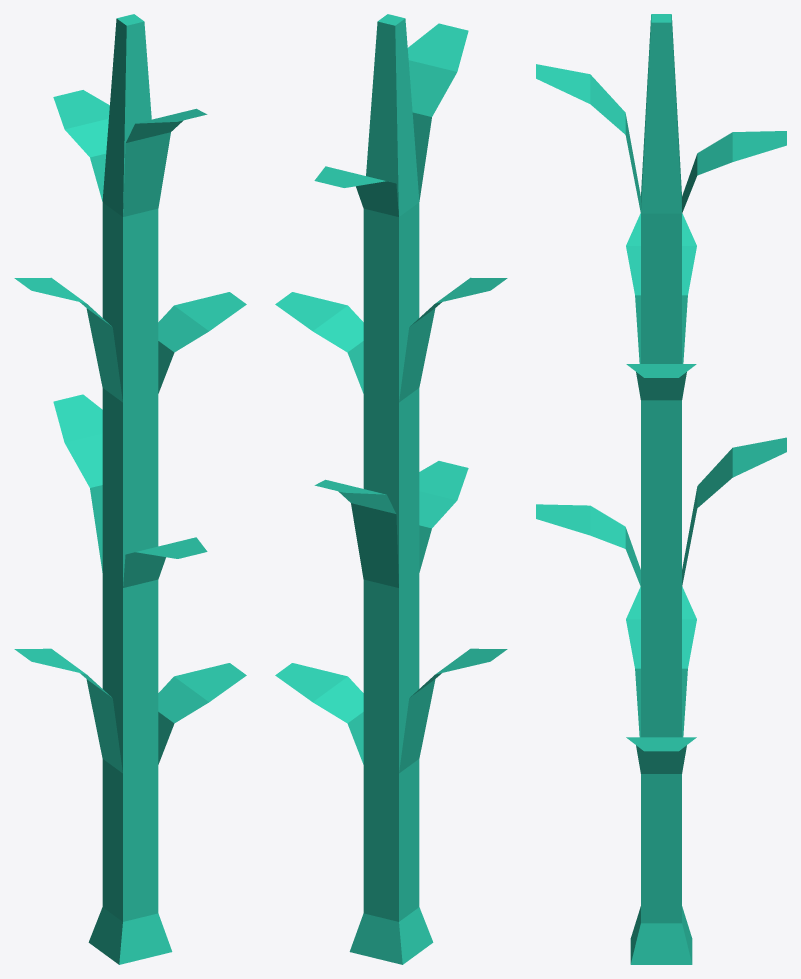
Rendered from crops_cornStageC.dae.
The picture shows the model from 3 angles, left to right: view 1: azimuth 30°, elevation 25°; view 2: azimuth 150°, elevation 25°; view 3: azimuth 270°, elevation 25°; orthographic projection.
Visible parts, largest first — view 1: crops_cornStageC; view 2: crops_cornStageC; view 3: crops_cornStageC.
Part boxes in pixels (x1=…): crops_cornStageC: x1=14, y1=14, x2=246, y2=964; crops_cornStageC: x1=275, y1=14, x2=507, y2=964; crops_cornStageC: x1=536, y1=14, x2=786, y2=964.
Size of the model in its own units: 0.3042 by 1.25 by 0.3042.
